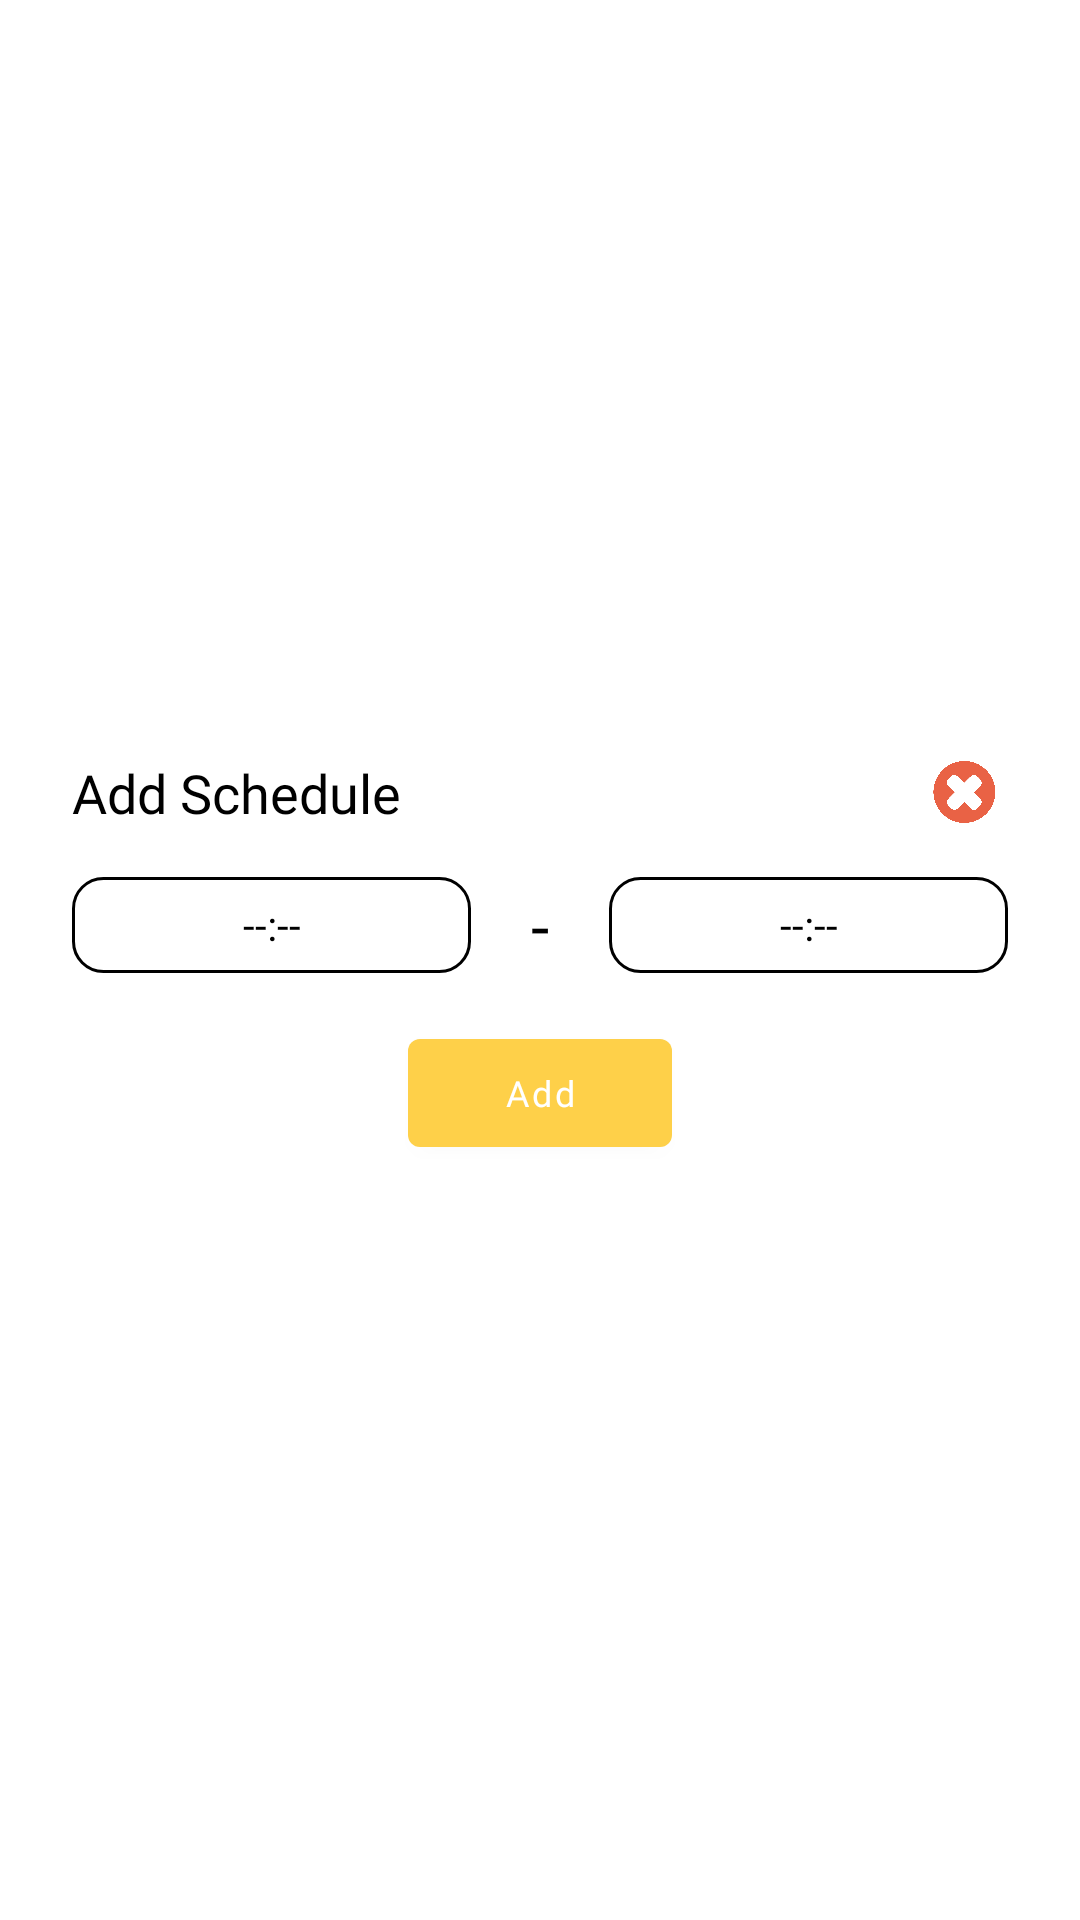

Icons on this 1080 x 1920 Android screen, each with the point to tap as (x=x, y=y):
close: (x=964, y=792)
